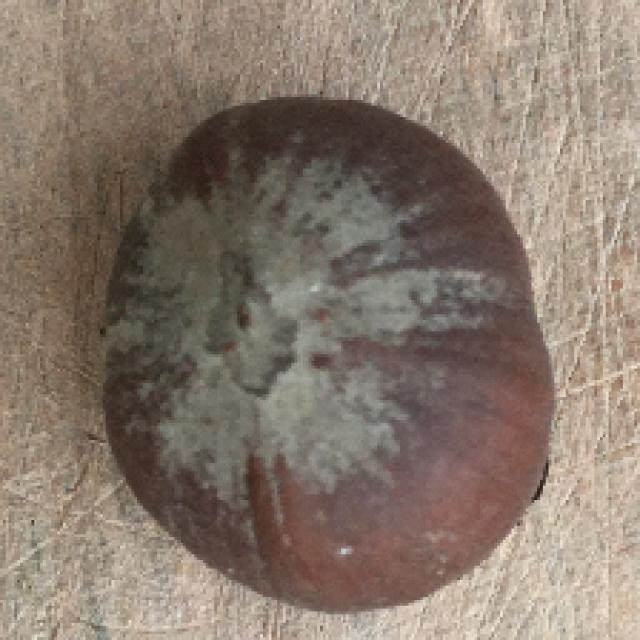DamagedHazelnut: (99, 95, 558, 610)
